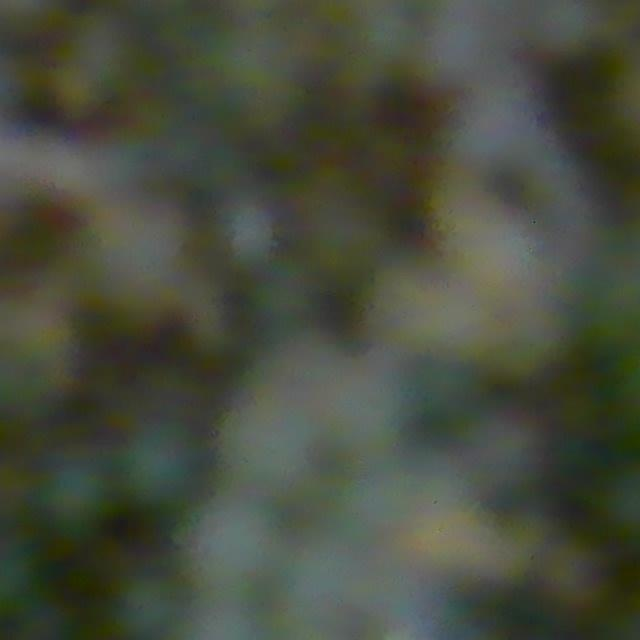SeaGrape: (304, 366, 394, 473), (222, 392, 305, 493), (191, 506, 278, 596), (119, 423, 201, 506), (534, 536, 610, 615), (36, 452, 111, 531), (112, 572, 187, 640), (218, 197, 280, 266), (285, 559, 341, 622)
